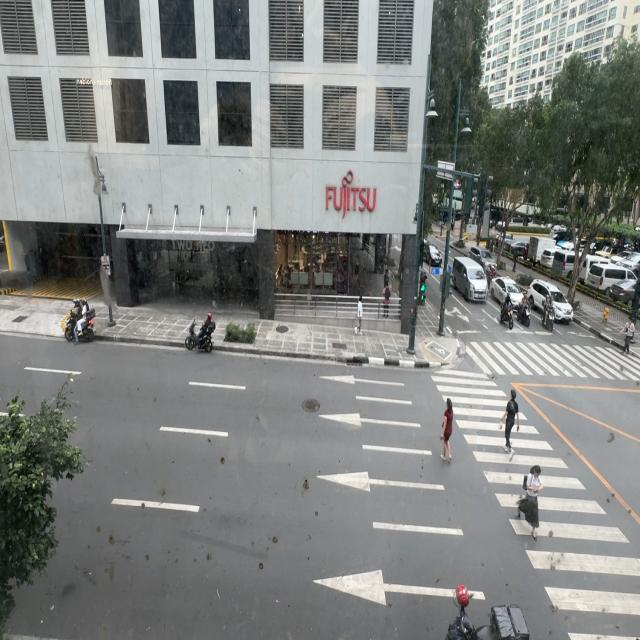crossing: (512, 464, 540, 540), (500, 387, 519, 455), (621, 317, 635, 354)
jaywalking: (441, 398, 454, 464)
pedestrain: (382, 283, 391, 319)
